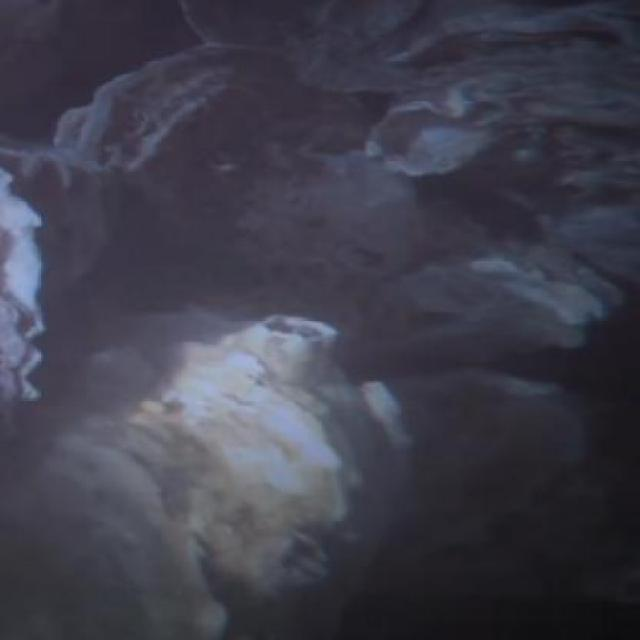Oyster- Indeterminate: (0, 329, 409, 640), (361, 259, 607, 369), (2, 178, 54, 406)
Oyster-Open: (124, 61, 269, 218)
